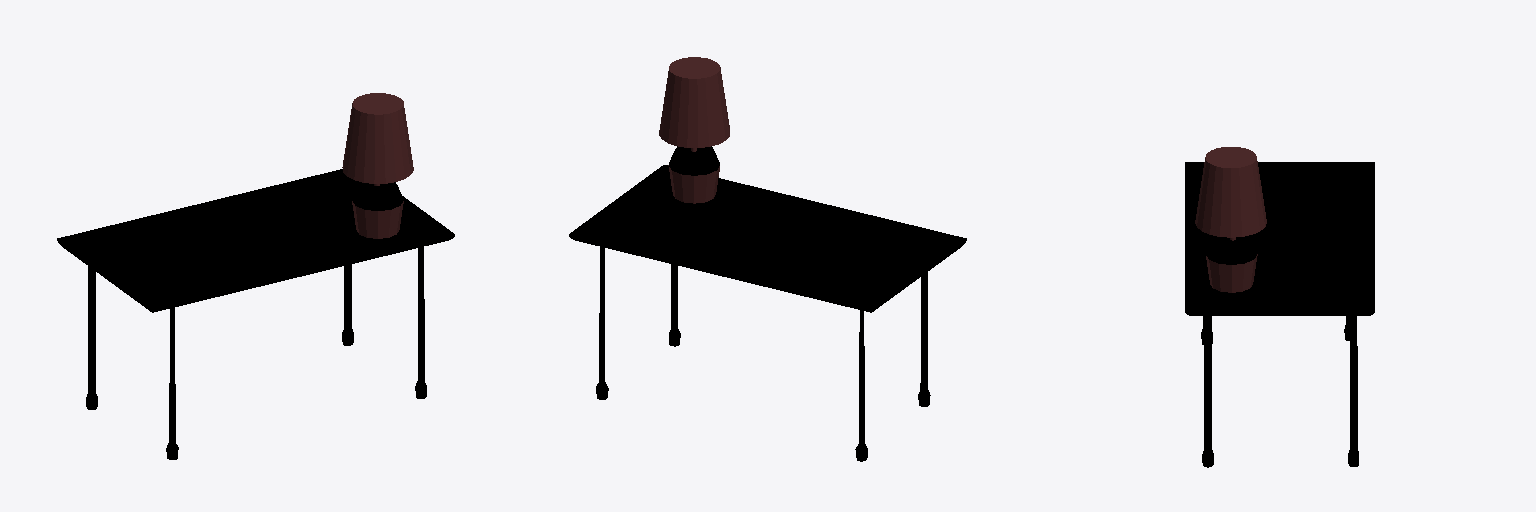
The model's file is Table3.obj.
3 renders of one model, left to right at view 1: azimuth 30°, elevation 25°; view 2: azimuth 150°, elevation 25°; view 3: azimuth 270°, elevation 25°, orthographic.
Parts seen in each view (by area): view 1: pCube1, pCylinder2, leg4, pCube2, pCylinder4, pCylinder1; view 2: pCube1, pCylinder2, leg4, pCube2, pCylinder4, pCylinder1; view 3: pCube1, pCylinder2, leg4, pCube2, pCylinder4, pCylinder1.
Boxes of the visible parts, x1,y1,x2,y2 form: pCube1: [57, 169, 454, 312]; pCylinder2: [342, 93, 413, 183]; leg4: [86, 247, 426, 459]; pCube2: [209, 197, 302, 249]; pCylinder4: [352, 201, 403, 238]; pCylinder1: [352, 182, 403, 210]; pCube1: [569, 165, 966, 312]; pCylinder2: [659, 57, 729, 147]; leg4: [596, 247, 930, 461]; pCube2: [721, 197, 814, 249]; pCylinder4: [668, 165, 719, 203]; pCylinder1: [669, 146, 719, 175]; pCube1: [1185, 162, 1374, 315]; pCylinder2: [1195, 147, 1266, 237]; leg4: [1201, 316, 1358, 467]; pCube2: [1249, 205, 1320, 240]; pCylinder4: [1206, 254, 1257, 292]; pCylinder1: [1206, 236, 1256, 264].
Bounding box in the file's own units: 9.75 × 8.98 × 5.3.